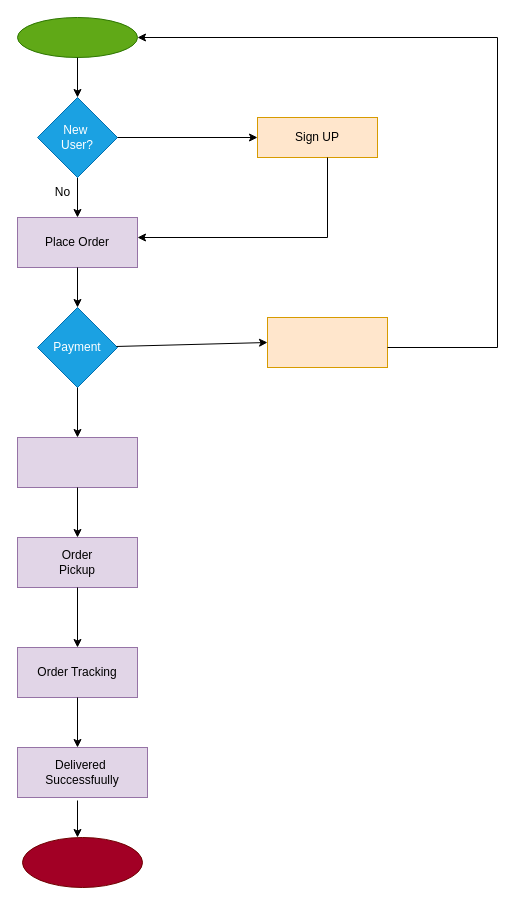
Image size: 523x905. Some labels were removed from this diagram. The box of each missing label's shape, as (x1, y1, x2, y2) in pixels:
END: (22, 836, 142, 888)
Order accepted: (16, 436, 138, 488)
START: (16, 16, 138, 58)
Try Again: (266, 316, 388, 368)
